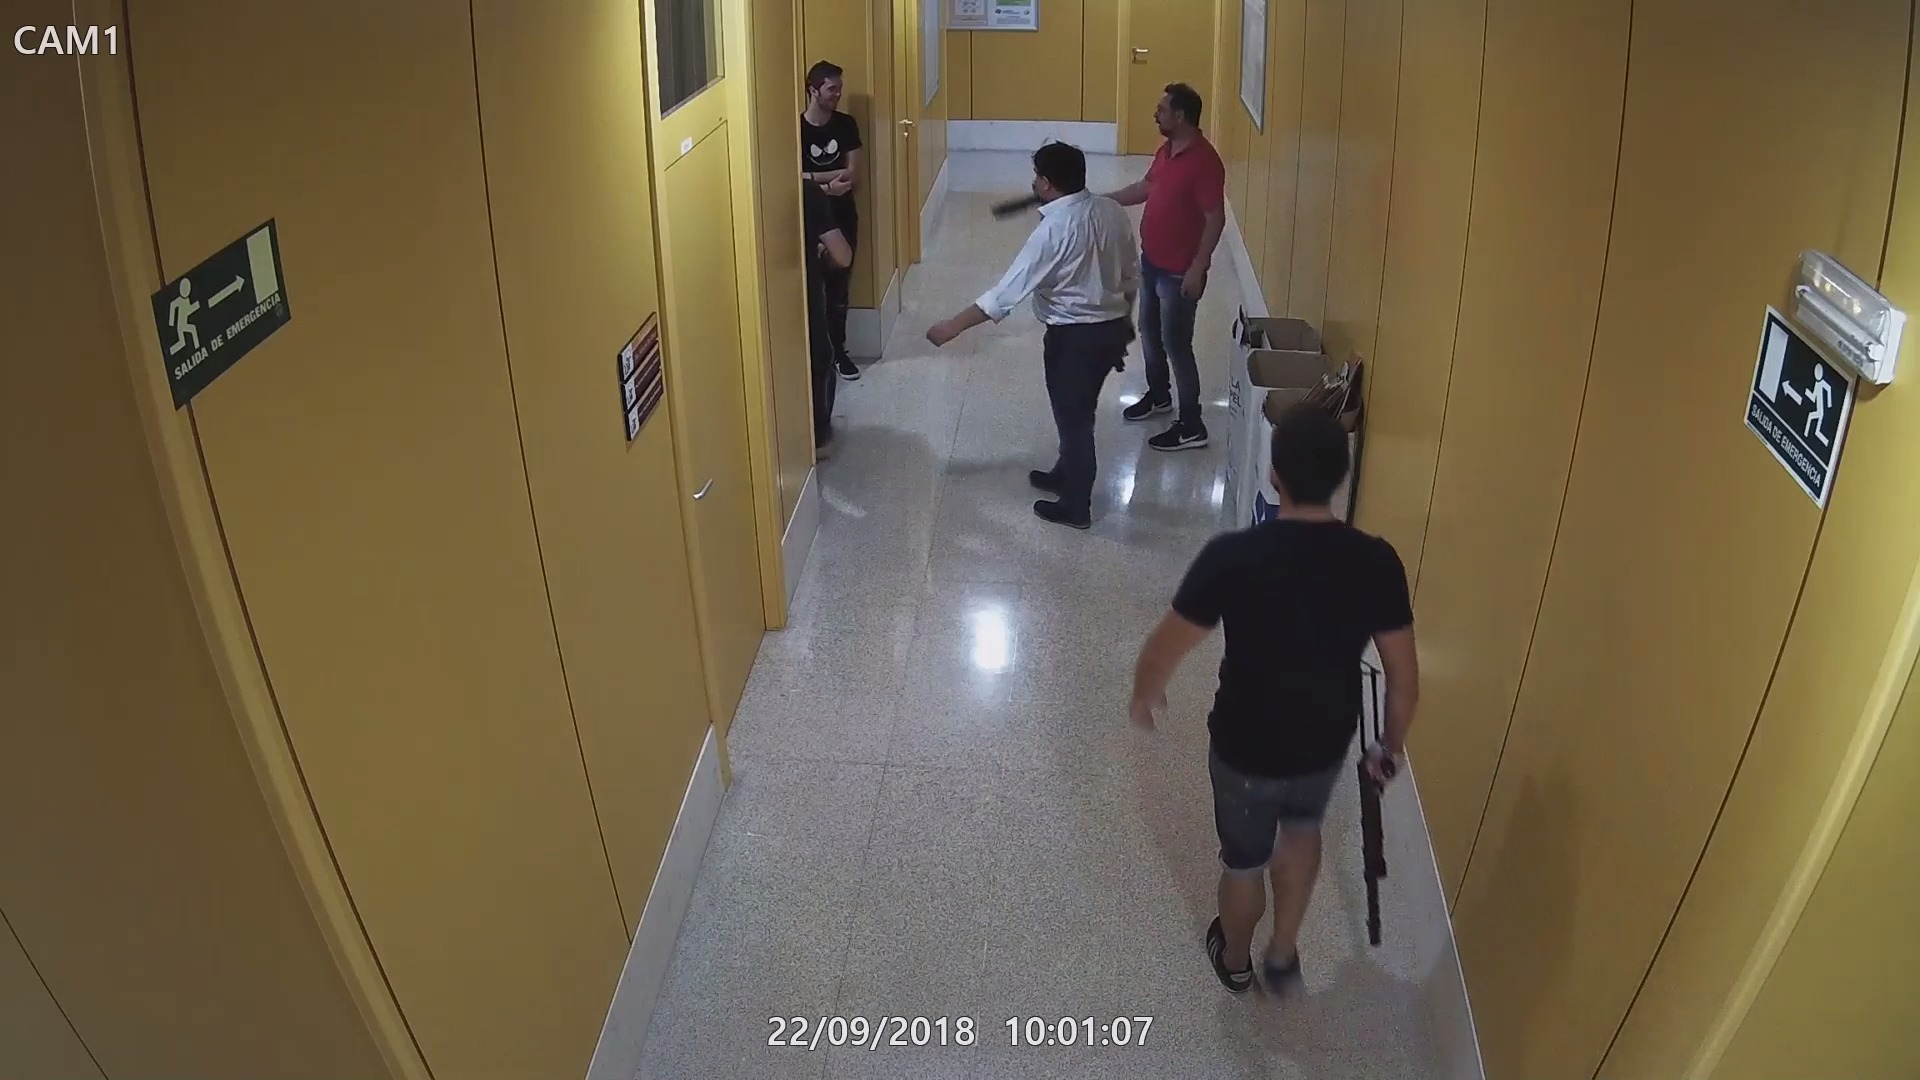Handgun: (1114, 324, 1139, 371)
Short_rifle: (1350, 653, 1400, 945), (989, 196, 1047, 225)
